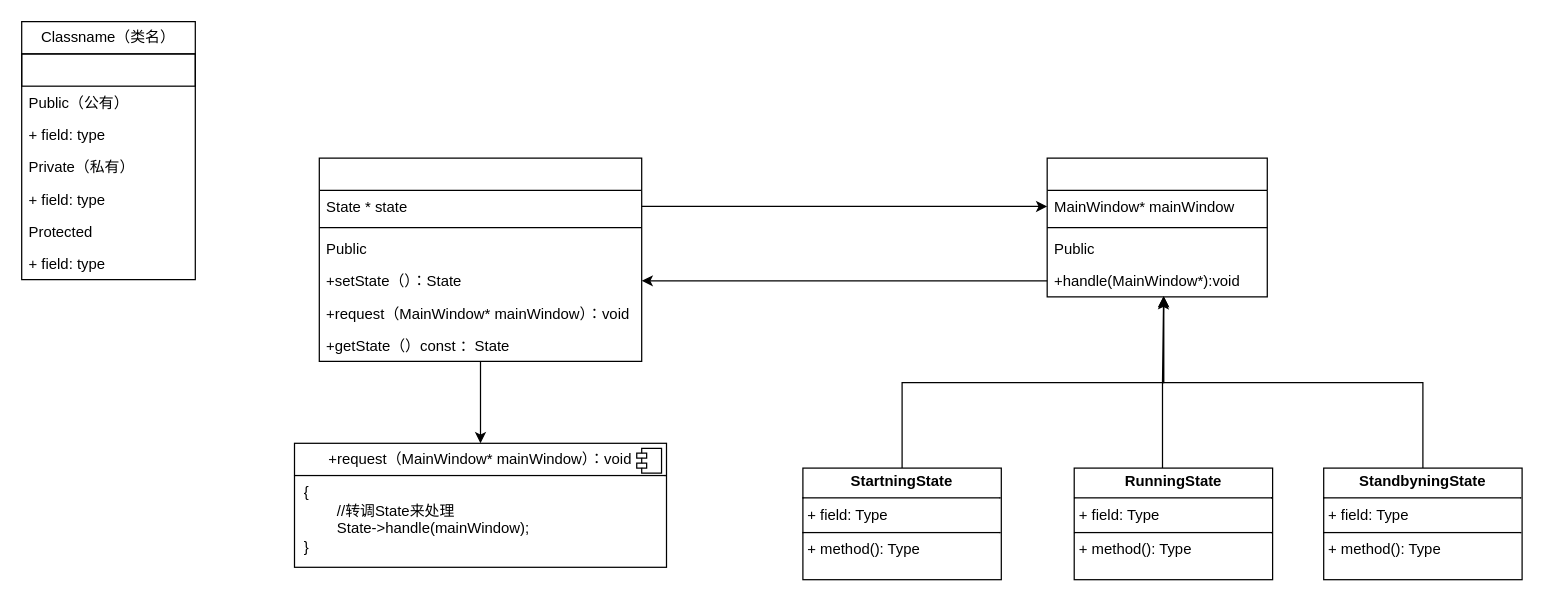
The diagram is 1544 pixels wide and 601 high, and some of its shapes have lost their labels. Each missing label, with the box of its shape:
Context（上下文）: (318, 157, 642, 361)
State（状态）: (1046, 157, 1267, 297)
变量类型 — 变量: (20, 53, 195, 86)
